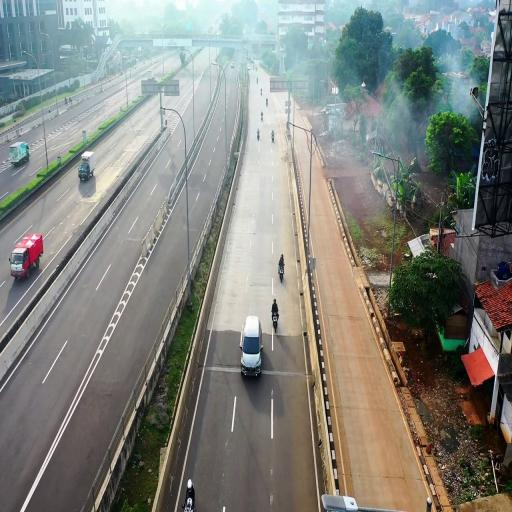vehicle: (9, 230, 44, 282), (9, 230, 44, 280), (240, 314, 263, 375), (78, 154, 95, 180)
